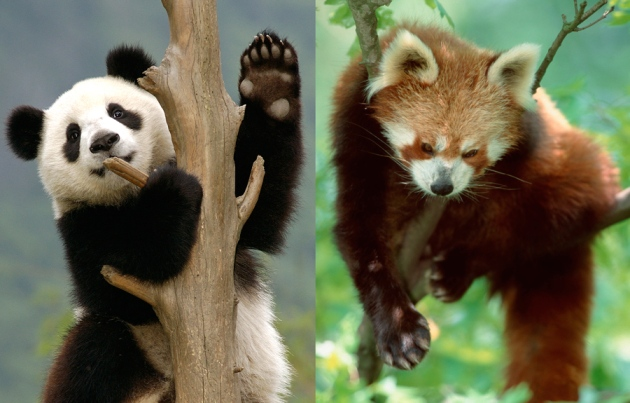panda: (26, 39, 295, 403)
